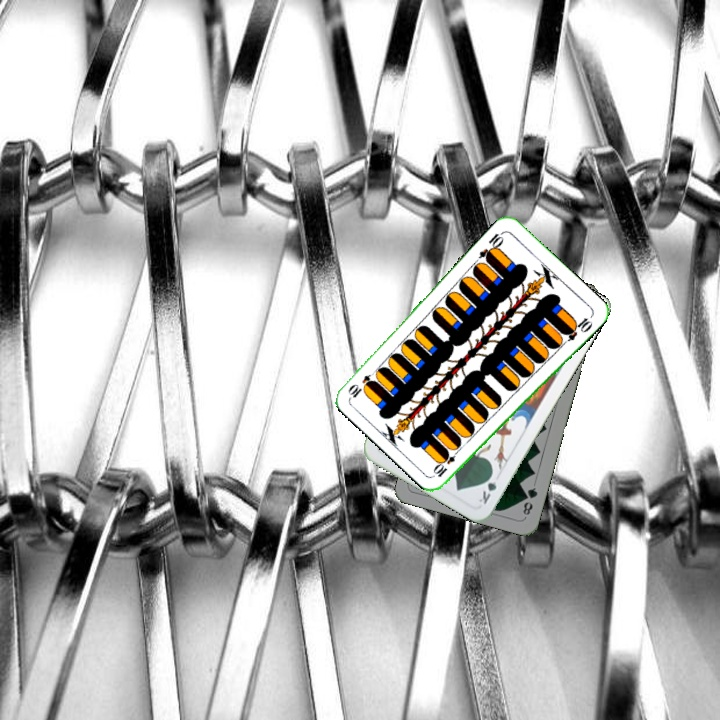E10: (475, 227, 507, 264), (430, 444, 462, 480)
G8: (519, 483, 540, 518)
GK: (474, 468, 499, 507)
